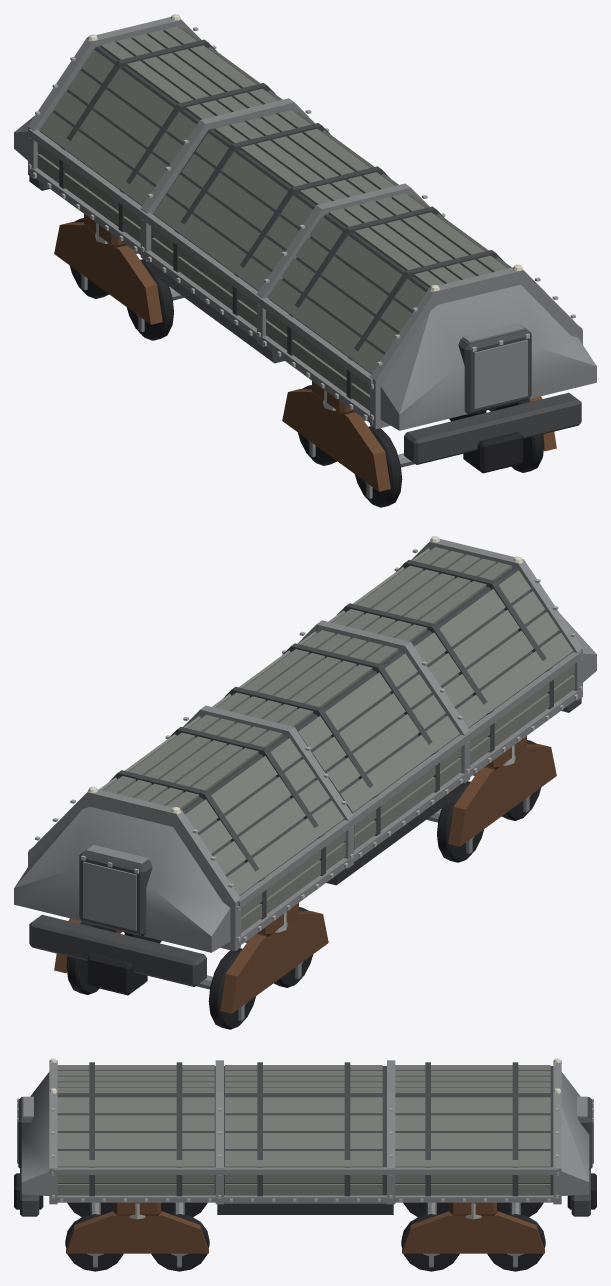
File: cargo-wagon.glb
The picture shows the model from 3 angles, top to bottom: view 1: azimuth 30°, elevation 25°; view 2: azimuth 150°, elevation 25°; view 3: azimuth 270°, elevation 25°; orthographic projection. The views are drawn at different scales.
Parts seen in each view (by area): view 1: body, anim_wheel_rail, anim_wheel_rail.002, anim_wheel_rail.001; view 2: body, anim_wheel_rail.003, anim_wheel_rail.001, anim_wheel_rail.002; view 3: body, anim_wheel_rail, anim_wheel_rail.001, anim_wheel_rail.002, anim_wheel_rail.003.
Part boxes in pixels (x1,y1,x2,y2): body: [14, 14, 596, 491]; anim_wheel_rail: [355, 399, 544, 507]; anim_wheel_rail.002: [127, 259, 184, 340]; anim_wheel_rail.001: [298, 385, 486, 465]; body: [14, 536, 596, 1013]; anim_wheel_rail.003: [66, 921, 255, 1029]; anim_wheel_rail.001: [426, 781, 483, 862]; anim_wheel_rail.002: [124, 907, 312, 987]; body: [14, 1058, 596, 1253]; anim_wheel_rail: [65, 1202, 123, 1271]; anim_wheel_rail.001: [151, 1202, 209, 1271]; anim_wheel_rail.002: [401, 1202, 459, 1271]; anim_wheel_rail.003: [487, 1202, 545, 1271].
Bounding box in the file's own units: 2.15 × 2.25 × 6.94.
